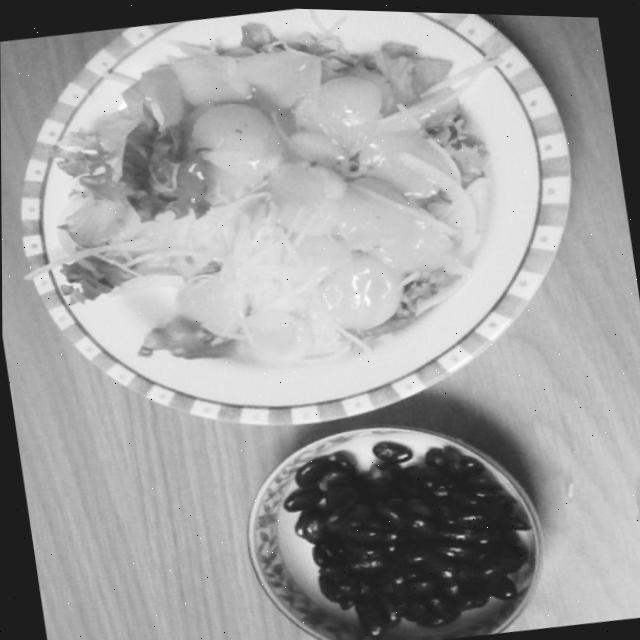刺身生食: (60, 1, 552, 459)
